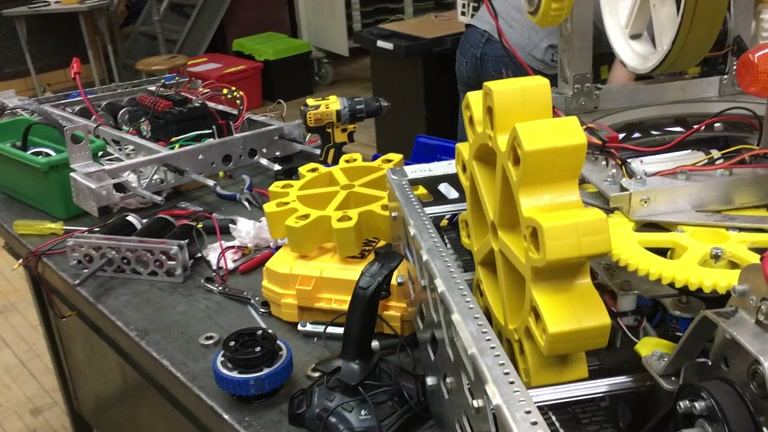gear: (454, 74, 611, 394), (262, 151, 436, 257)
